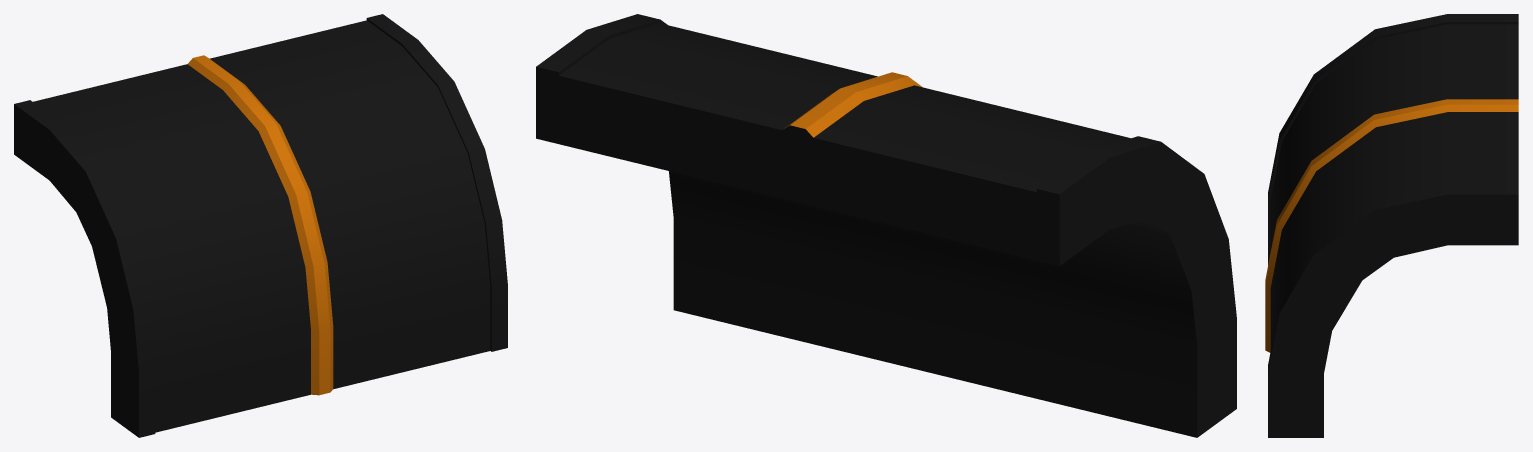
Rendered from road_segment_end.obj.
3 views of the same model, side by side, from view 1: azimuth 30°, elevation 25°; view 2: azimuth 150°, elevation 25°; view 3: azimuth 270°, elevation 25° (orthographic). The views are drawn at different scales.
Parts seen in each view (by area): view 1: Cube; view 2: Cube; view 3: Cube.
Part boxes in pixels (left/top/right/bottom): Cube: left=14, top=14, right=507, bottom=437; Cube: left=536, top=14, right=1236, bottom=437; Cube: left=1265, top=14, right=1518, bottom=437.
Size of the model in its own units: 16 by 10.16 by 9.49.
